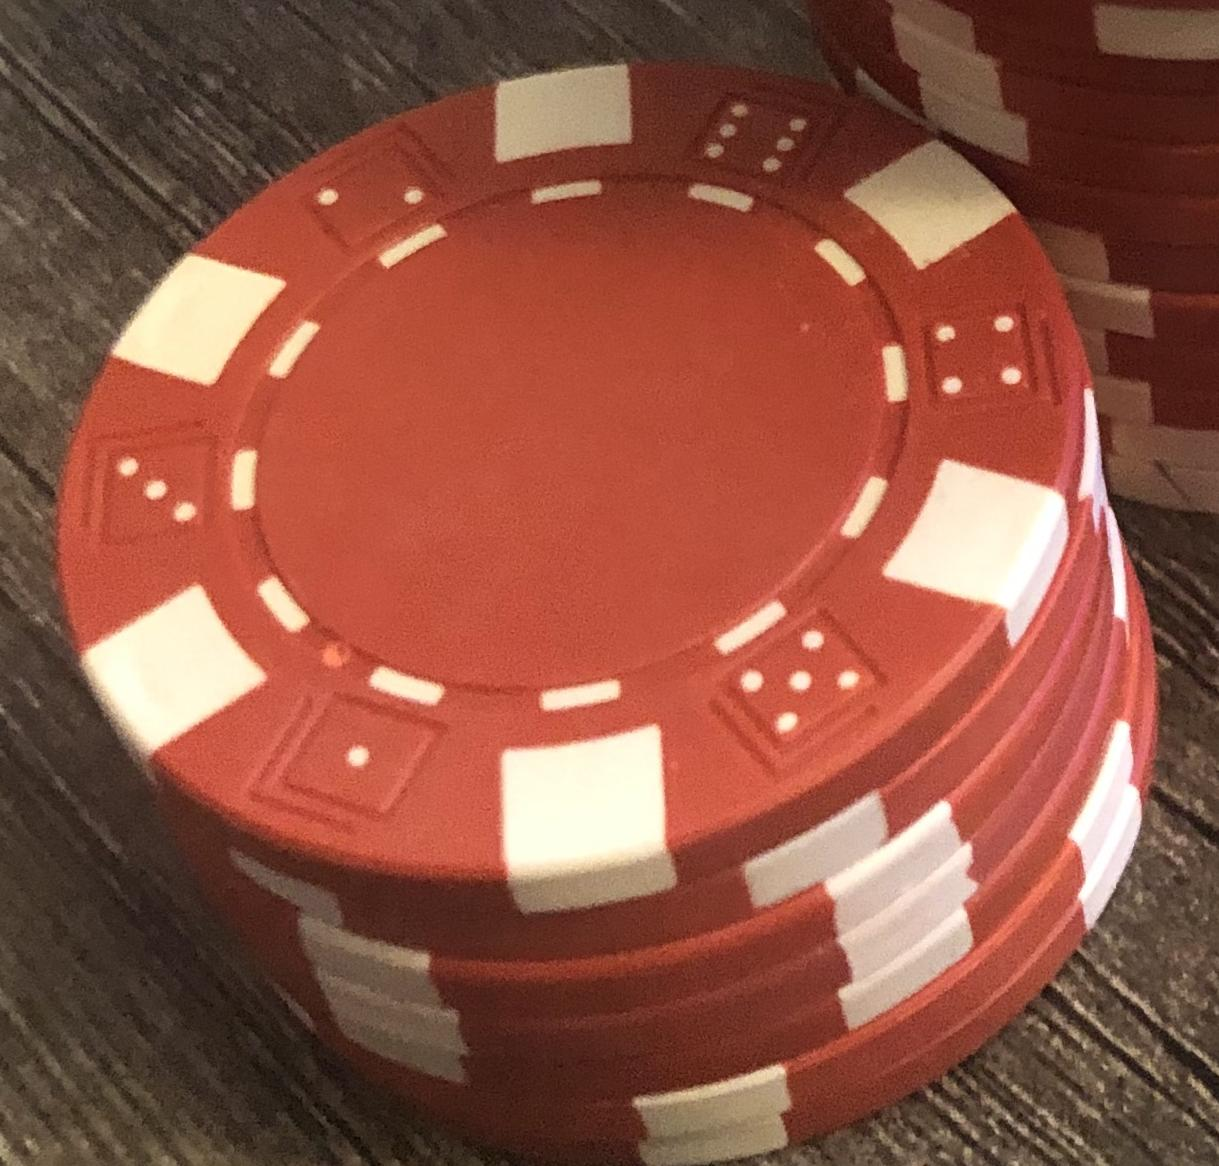Chip: (1, 1, 1219, 1166)
